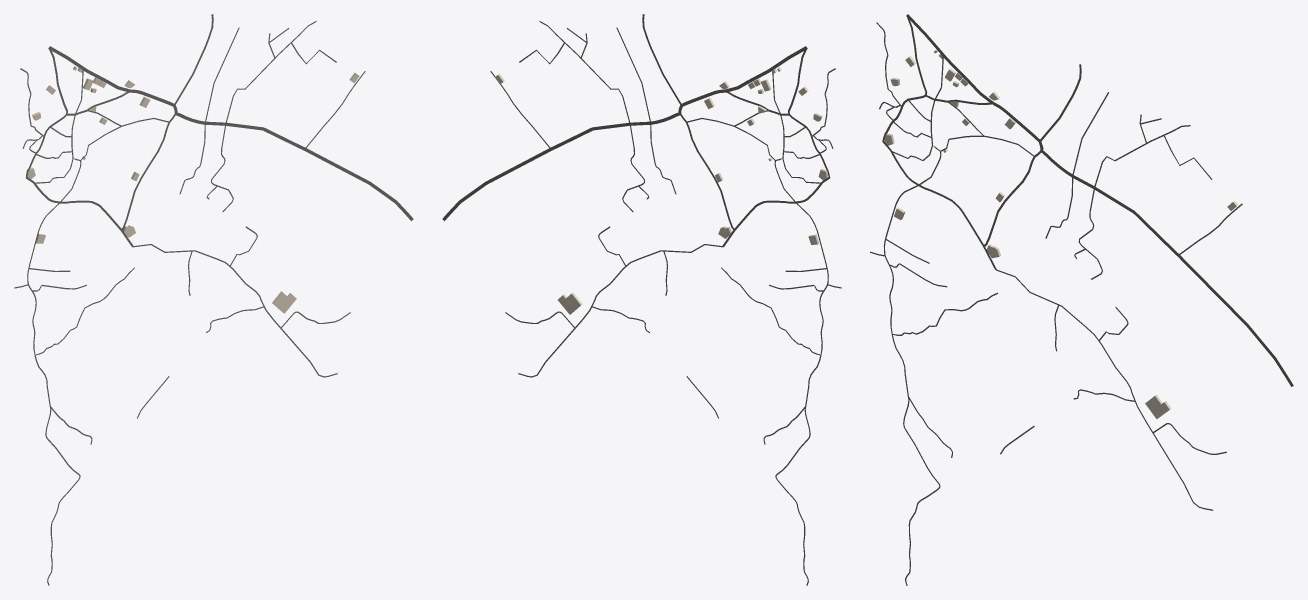
The model's file is historic-palestine-11_29_3529_3232.glb.
3 renders of one model, left to right at view 1: azimuth 30°, elevation 25°; view 2: azimuth 150°, elevation 25°; view 3: azimuth 330°, elevation 25°, orthographic. The views are drawn at different scales.
Visible parts, largest first — view 1: Road شارع سيريس, Road .007; view 2: Road شارع سيريس, Road .007; view 3: Road شارع سيريس, Road شارع القعدة, Road .007.
Boxes of the visible parts, bbox=[...] form: Road شارع سيريس: bbox=[130, 89, 413, 220]; Road .007: bbox=[27, 202, 134, 355]; Road شارع سيريس: bbox=[442, 89, 725, 220]; Road .007: bbox=[721, 202, 828, 355]; Road شارع سيريس: bbox=[992, 102, 1293, 386]; Road شارع القعدة: bbox=[996, 269, 1213, 510]; Road .007: bbox=[883, 184, 997, 335].
Size of the model in its own units: 1092 by 1410 by 8.7.
